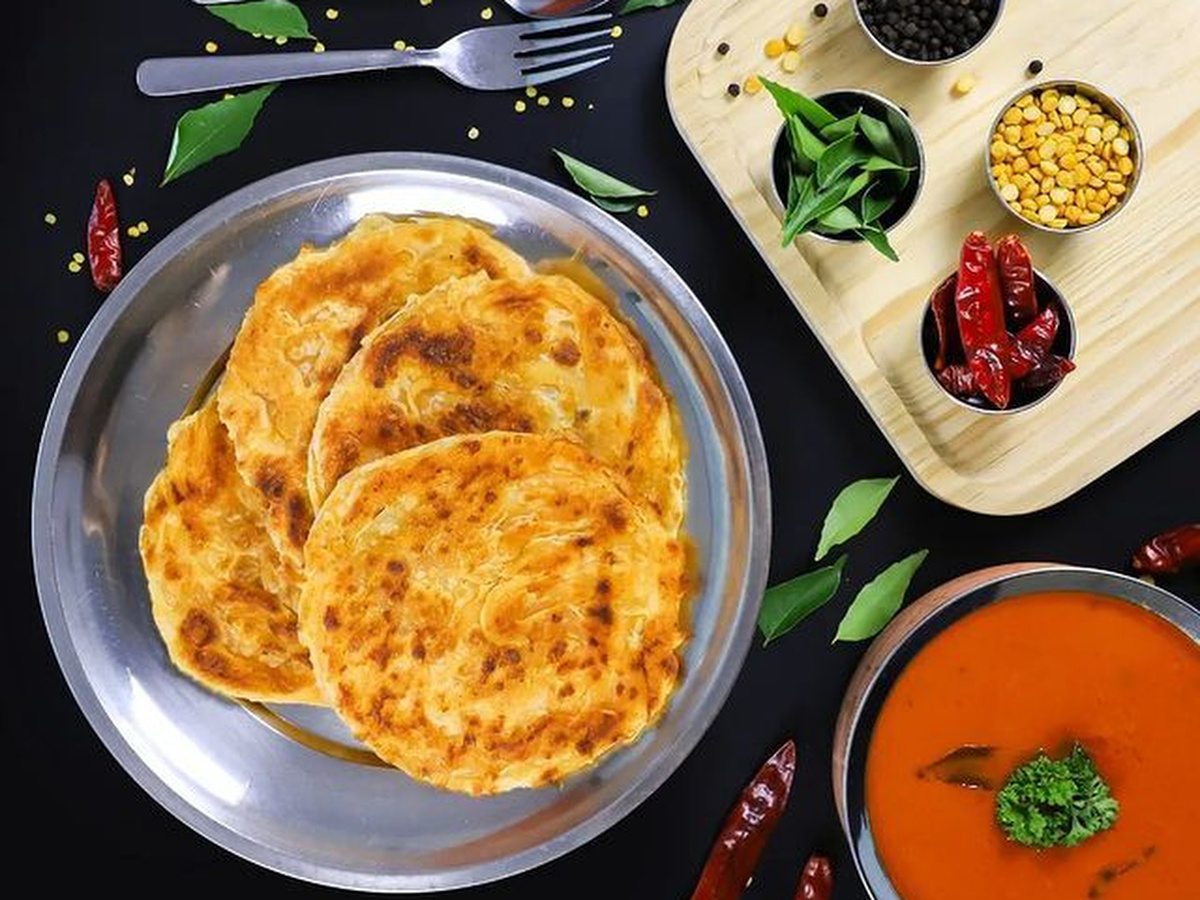Prata: (301, 443, 699, 790), (229, 221, 552, 530), (300, 268, 690, 511), (119, 398, 340, 717)
